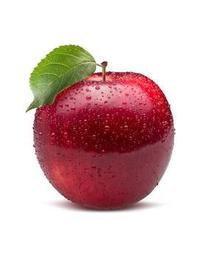apple: (34, 61, 174, 212)
